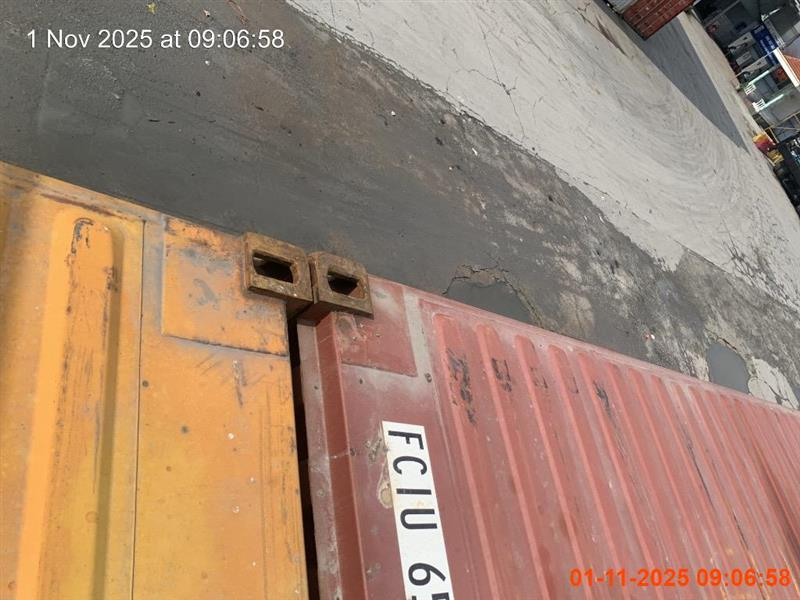broken: (3, 161, 798, 405)
